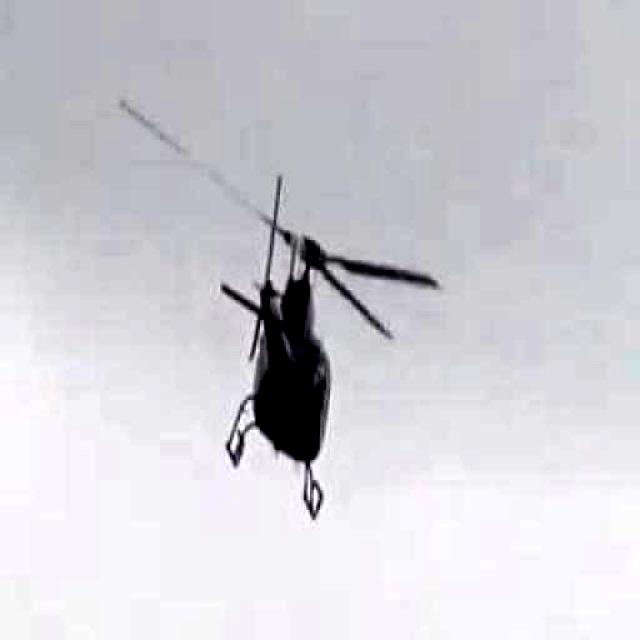drone: (58, 49, 498, 598)
